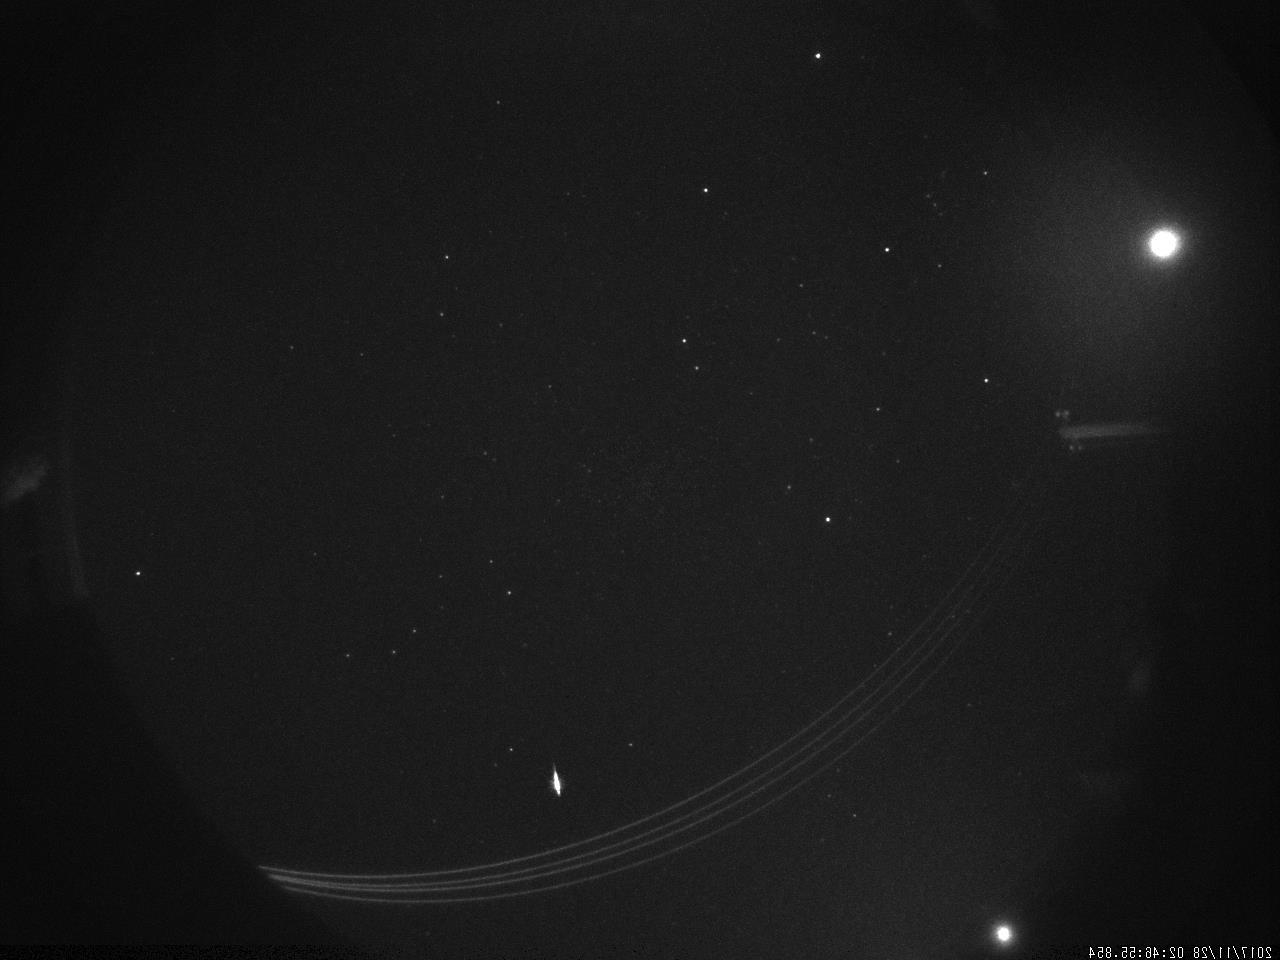meteor: (527, 743, 583, 818)
